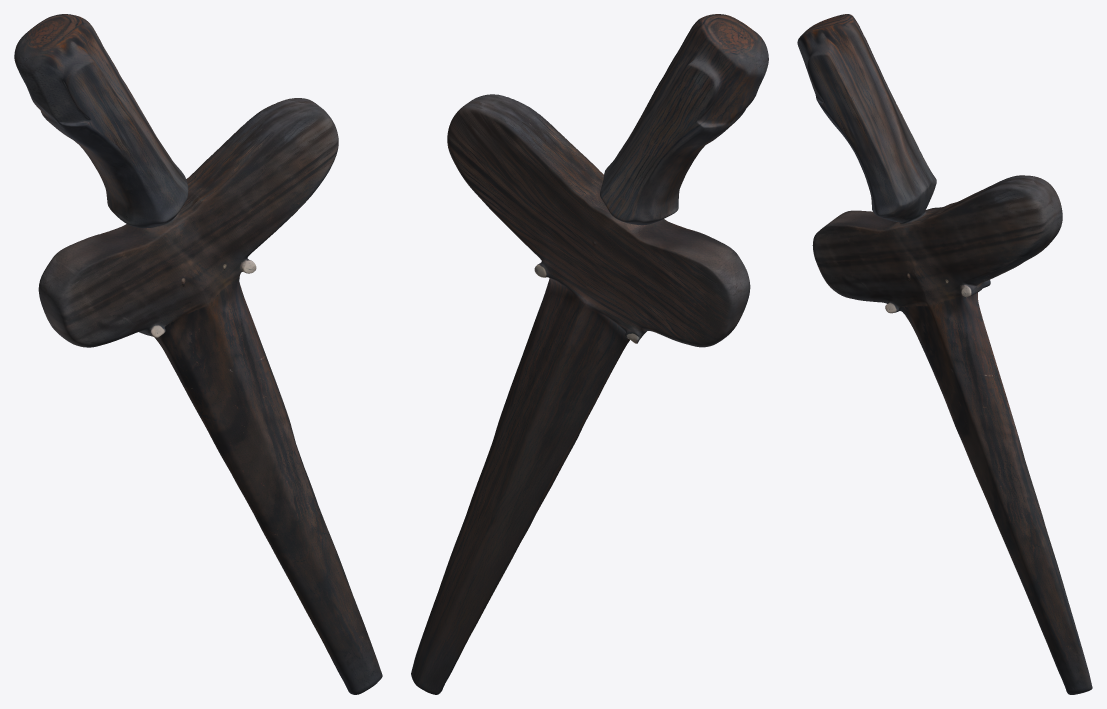
File: Kris Luk 7.glb
3 renders of one model, left to right at view 1: azimuth 30°, elevation 25°; view 2: azimuth 150°, elevation 25°; view 3: azimuth 330°, elevation 25°, orthographic. The views are drawn at different scales.
Visible parts, largest first — view 1: Mesh_0; view 2: Mesh_0; view 3: Mesh_0.
Part boxes in pixels (x1,y1,x2,y2): Mesh_0: [14, 14, 382, 694]; Mesh_0: [411, 14, 768, 694]; Mesh_0: [797, 14, 1092, 694].
Size of the model in its own units: 0.2757 by 0.5497 by 0.0632.
Materials: 1 (1 with a texture image).
